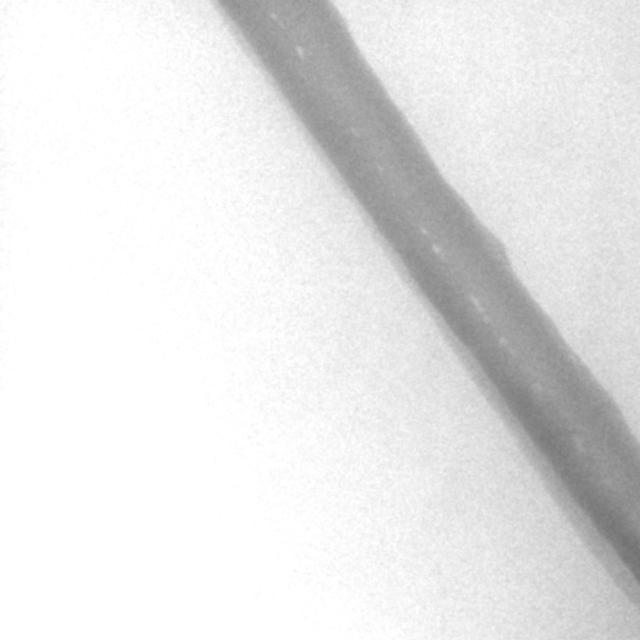air hole: (430, 241, 442, 257), (497, 333, 509, 349), (293, 43, 304, 59), (468, 294, 480, 308)
